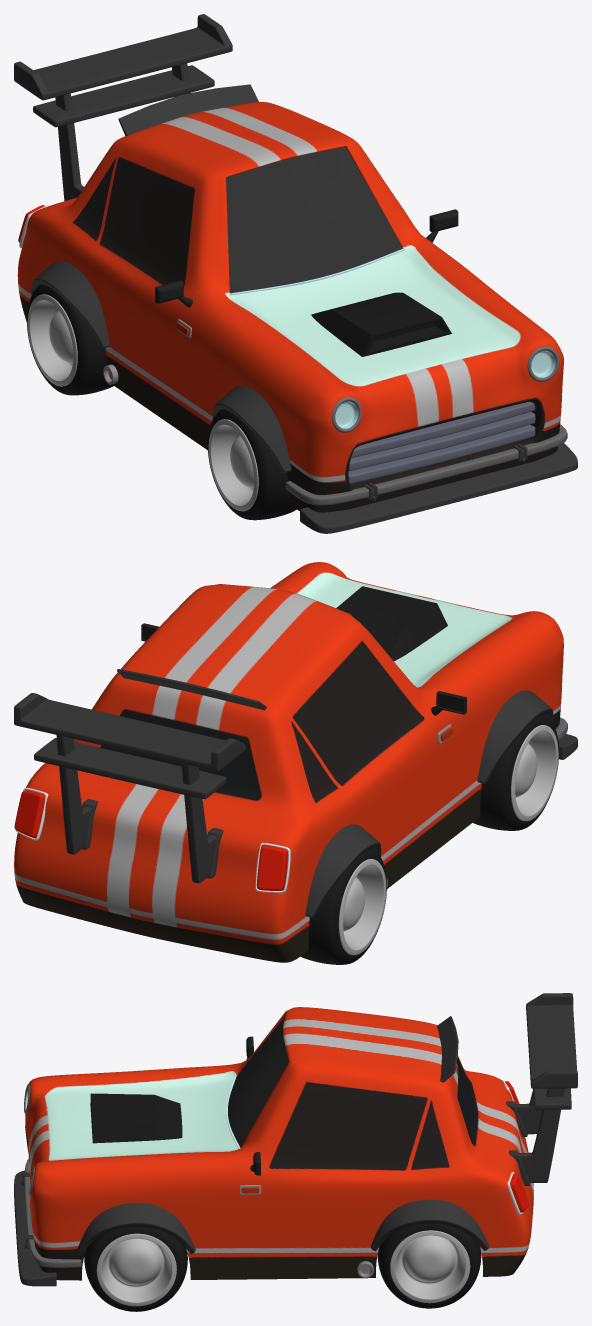
File: Coursework01_MyCar.fbx
The picture shows the model from 3 angles, top to bottom: view 1: azimuth 30°, elevation 25°; view 2: azimuth 150°, elevation 25°; view 3: azimuth 270°, elevation 25°; orthographic projection. The views are drawn at different scales.
Visible parts, largest first — view 1: CarBody_01.001, Windscreen_01.001, CarSpoiler_02.001, AutoParts_06.001, AutoParts_01.001, AutoTyre_01.003, AutoTyre_02.003, AutoParts_04.001, AutoTyre_01.004, AutoParts_02.001, AutoTyre_02.004, AutoParts_07.001 (+7 smaller); view 2: CarBody_01.001, CarSpoiler_02.001, CarSpoiler_01.001, AutoParts_01.001, AutoTyre_01.003, AutoTyre_02.003, AutoTyre_01.004, AutoTyre_02.004, AutoParts_07.001, AutoParts_08.001, AutoParts_02.001, BackupLight_01.002 (+2 smaller); view 3: CarBody_01.001, CarSpoiler_02.001, AutoTyre_02.001, AutoTyre_01.001, AutoParts_01.001, Windscreen_01.001, CarSpoiler_01.001, AutoParts_07.001, AutoParts_08.001, AutoTyre_02.002, AutoTyre_01.002, AutoParts_06.001 (+3 smaller).
Boxes of the visible parts, x1,y1,x2,y2 form: CarBody_01.001: [17, 102, 563, 512]; Windscreen_01.001: [215, 147, 403, 293]; CarSpoiler_02.001: [14, 14, 232, 127]; AutoParts_06.001: [300, 443, 577, 533]; AutoParts_01.001: [311, 292, 451, 356]; AutoTyre_01.003: [208, 419, 258, 511]; AutoTyre_02.003: [27, 294, 77, 386]; AutoParts_04.001: [285, 424, 567, 505]; AutoTyre_01.004: [207, 409, 296, 520]; AutoParts_02.001: [118, 84, 258, 136]; AutoTyre_02.004: [27, 284, 113, 395]; AutoParts_07.001: [212, 386, 291, 473]; CarBody_01.001: [14, 562, 563, 962]; CarSpoiler_02.001: [14, 693, 245, 799]; CarSpoiler_01.001: [56, 735, 223, 883]; AutoParts_01.001: [336, 586, 447, 660]; AutoTyre_01.003: [511, 725, 558, 821]; AutoTyre_02.003: [338, 859, 386, 955]; AutoTyre_01.004: [473, 714, 558, 830]; AutoTyre_02.004: [300, 848, 386, 964]; AutoParts_07.001: [477, 690, 553, 783]; AutoParts_08.001: [305, 824, 381, 917]; AutoParts_02.001: [117, 669, 266, 710]; BackupLight_01.002: [256, 845, 287, 890]; CarBody_01.001: [25, 1007, 533, 1280]; CarSpoiler_02.001: [526, 993, 577, 1109]; AutoTyre_02.001: [390, 1230, 470, 1303]; AutoTyre_01.001: [96, 1233, 176, 1306]; AutoParts_01.001: [90, 1093, 182, 1143]; Windscreen_01.001: [228, 1017, 288, 1147]; CarSpoiler_01.001: [506, 1088, 564, 1185]; AutoParts_07.001: [77, 1202, 195, 1254]; AutoParts_08.001: [371, 1199, 488, 1251]; AutoTyre_02.002: [377, 1223, 481, 1308]; AutoTyre_01.002: [84, 1226, 187, 1311]; AutoParts_06.001: [14, 1170, 56, 1286].
Size of the model in its own units: 124 by 99.44 by 228.
